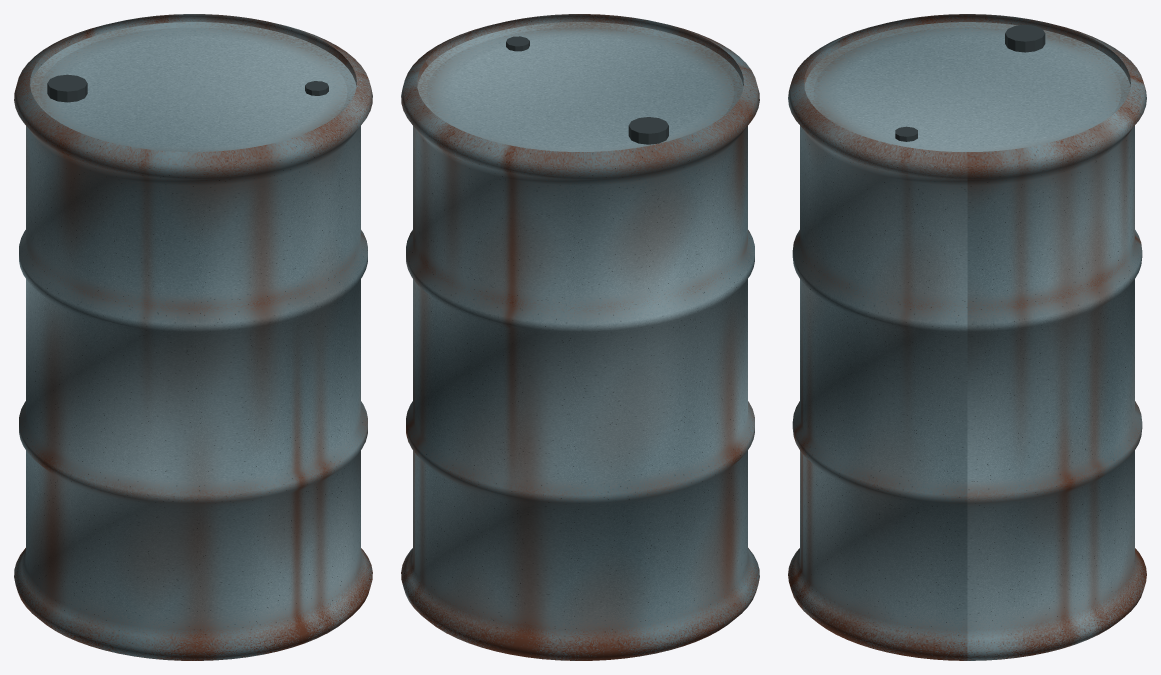
File: FuelDrum_C.glb
The picture shows the model from 3 angles, left to right: view 1: azimuth 30°, elevation 25°; view 2: azimuth 150°, elevation 25°; view 3: azimuth 270°, elevation 25°; orthographic projection.
Parts seen in each view (by area): view 1: FuelDrum_C; view 2: FuelDrum_C; view 3: FuelDrum_C.
Boxes of the visible parts, x1=… form: FuelDrum_C: x1=14, y1=14, x2=372, y2=660; FuelDrum_C: x1=401, y1=14, x2=759, y2=660; FuelDrum_C: x1=788, y1=14, x2=1146, y2=660.
Size of the model in its own units: 2.24 by 3.54 by 2.24.
1 material, 1 textured.
